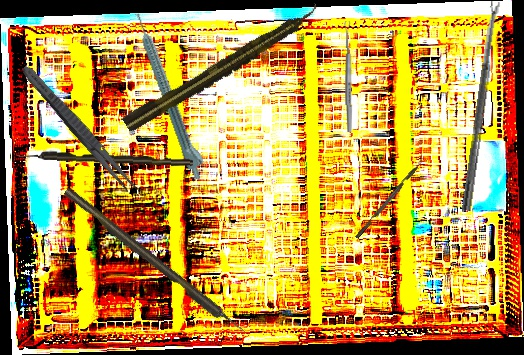Chopper: (351, 153, 428, 239)
Dressing Forceps: (17, 61, 142, 198)
Handpiece: (120, 0, 325, 135), (131, 8, 211, 182)
Hook Surgical: (62, 185, 248, 339), (15, 149, 194, 168)
Surgical Spoon: (461, 0, 502, 212), (344, 20, 353, 133)
